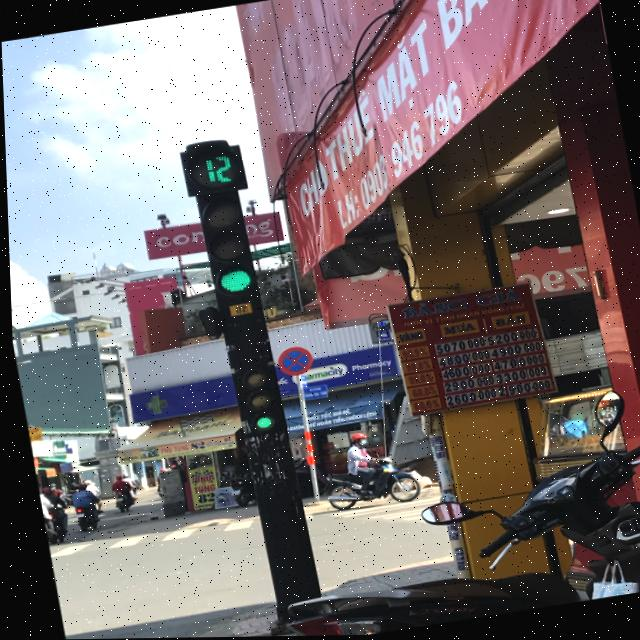Green: (188, 191, 265, 307), (226, 365, 276, 439)
